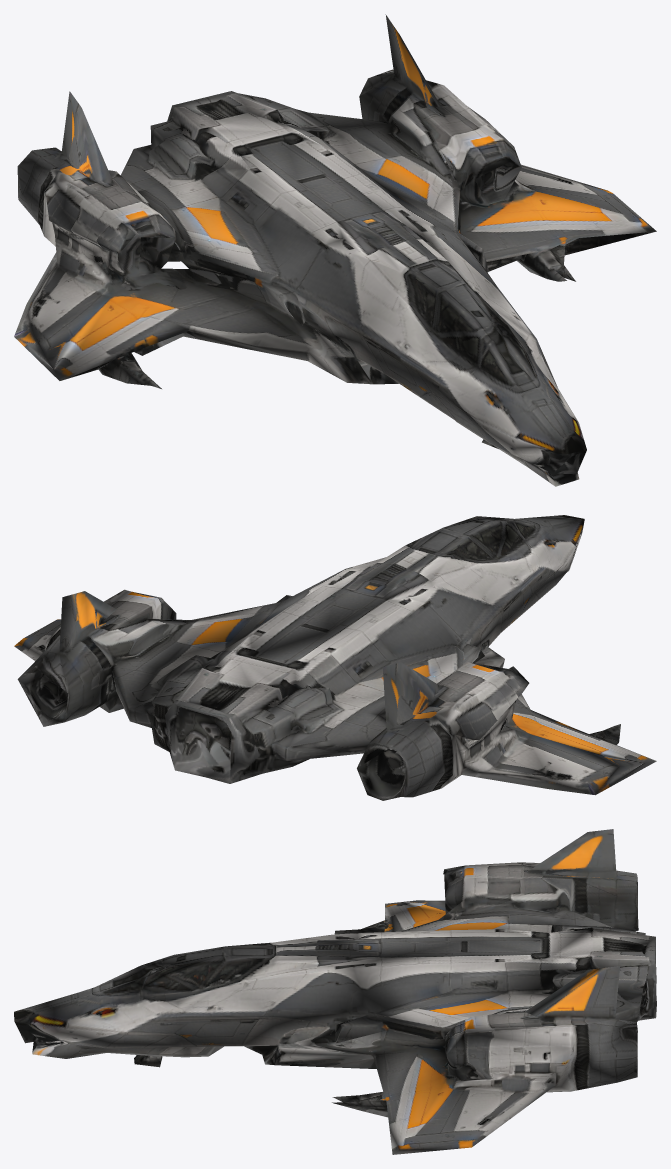
File: tripo-rebaked-1000.glb
The picture shows the model from 3 angles, top to bottom: view 1: azimuth 30°, elevation 25°; view 2: azimuth 150°, elevation 25°; view 3: azimuth 270°, elevation 25°; orthographic projection. The views are drawn at different scales.
Visible parts, largest first — view 1: Low; view 2: Low; view 3: Low.
Boxes of the visible parts, x1,y1,x2,y2 form: Low: (14,14,656,486); Low: (14,515,656,800); Low: (14,829,656,1154).
Size of the model in its own units: 0.9032 by 0.2849 by 0.9782.
Materials: 1 (1 with a texture image).
